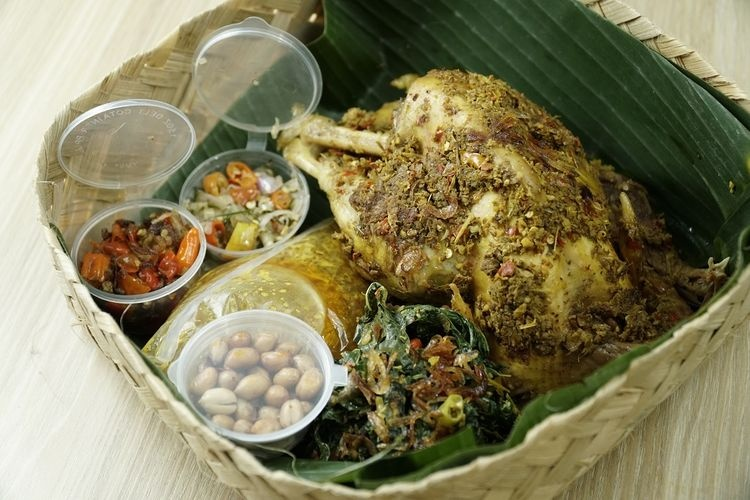ayam_betutu: (326, 68, 671, 330)
